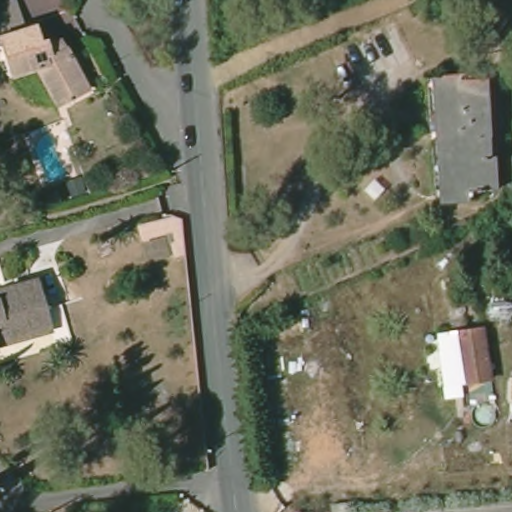pool: (29, 129, 75, 186)
